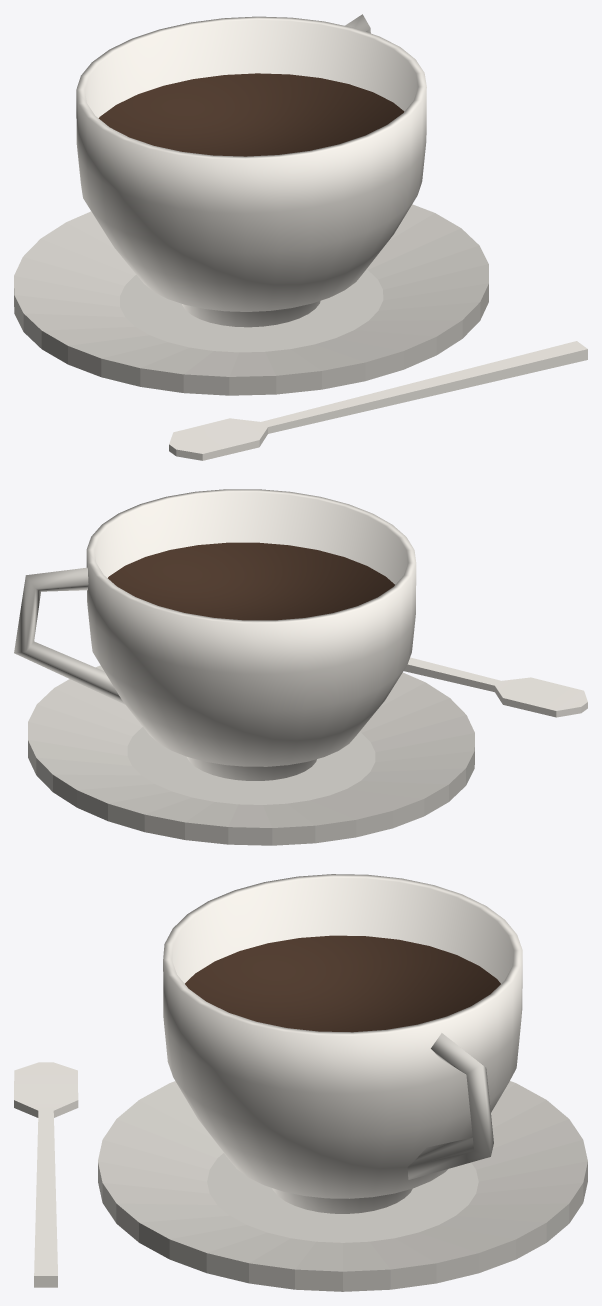
Rendered from cup_coffee.fbx.
3 renders of one model, top to bottom at view 1: azimuth 30°, elevation 25°; view 2: azimuth 150°, elevation 25°; view 3: azimuth 270°, elevation 25°, orthographic. The views are drawn at different scales.
Parts seen in each view (by area): view 1: mesh_CoffeeCup; view 2: mesh_CoffeeCup; view 3: mesh_CoffeeCup.
Part boxes in pixels (x1,y1,x2,y2): mesh_CoffeeCup: (14,14,587,460); mesh_CoffeeCup: (14,489,587,845); mesh_CoffeeCup: (14,874,587,1291).
Bounding box in the file's own units: 0.37 × 0.2 × 0.4.
